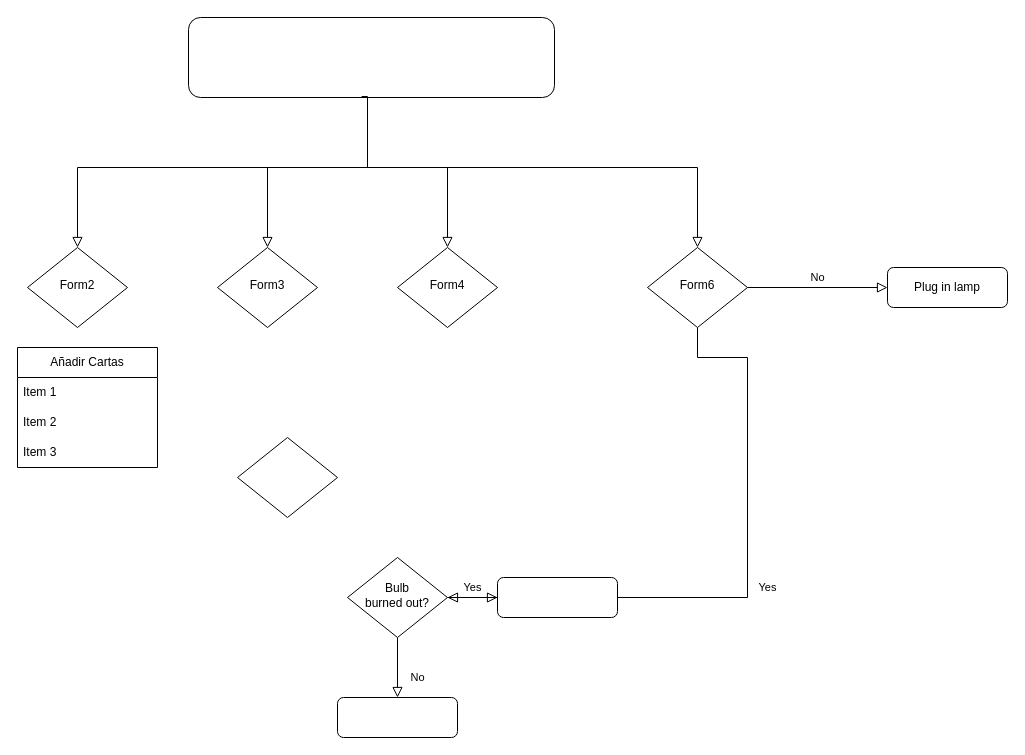
This 1025x755 diagram has some shape labels left out. Here are the shapes that lost their labels. From the top down, the centre of each, then its label:
[371,57]: Form1
[287,477]: Form5
[557,597]: Replace Bulb
[397,717]: Repair Lamp
